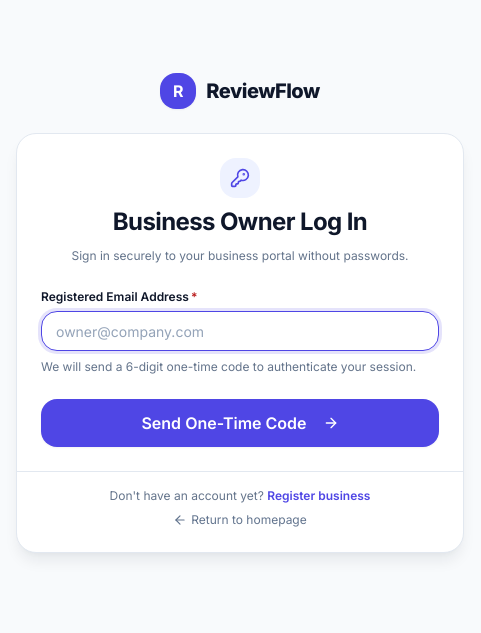
LoginPage Flow › should display server error message when verifyLoginOtp rejects invalid OTP
The image size is (481, 633).
Type "owner@bistro.com" into the field labelled "Registered Email Address*" at (240, 331), box top-left (41, 311), bottom-right (439, 351)
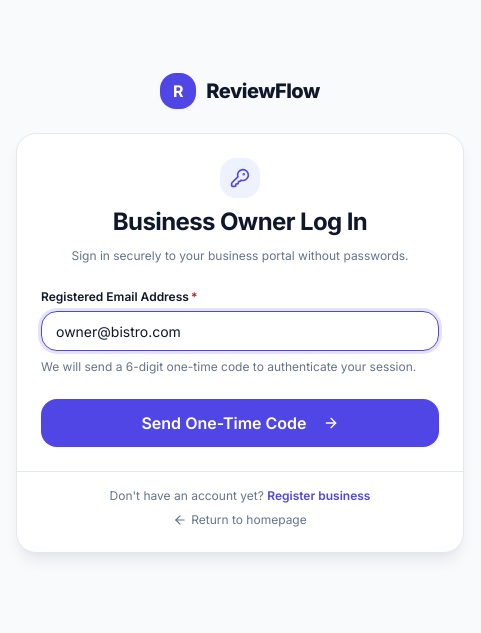
Click the button "Send One-Time Code" at (240, 423), box top-left (41, 399), bottom-right (439, 447)
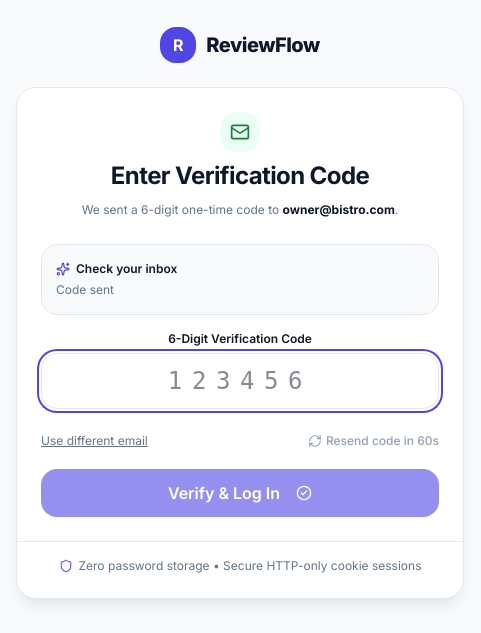
Type "000000" into the field with placeholder "123456" at (240, 381), box top-left (41, 353), bottom-right (439, 409)
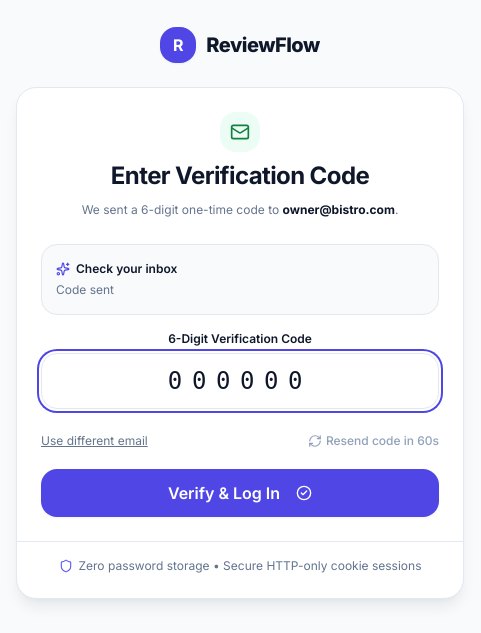
Click the button "Verify & Log In" at (240, 493), box top-left (41, 469), bottom-right (439, 517)
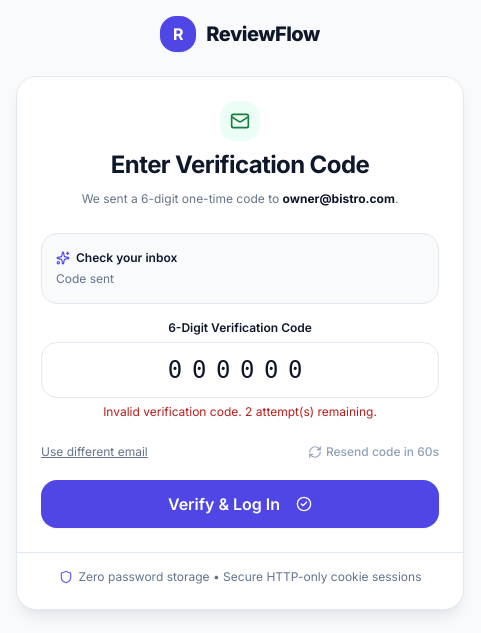
Check: the text "Invalid verification code. 2 attempt(s) remaining." is shown, box top-left (103, 404), bottom-right (377, 419)
